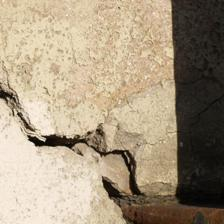Crack: (0, 22, 76, 123), (37, 23, 106, 89)
